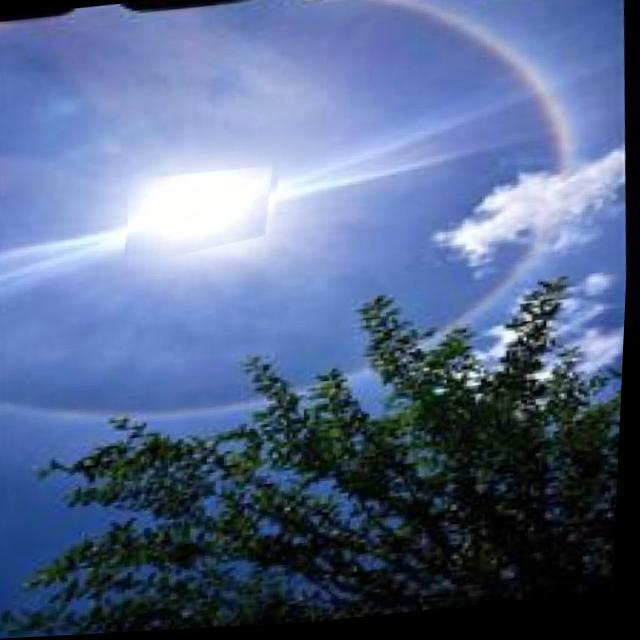sun: (130, 172, 275, 254)
